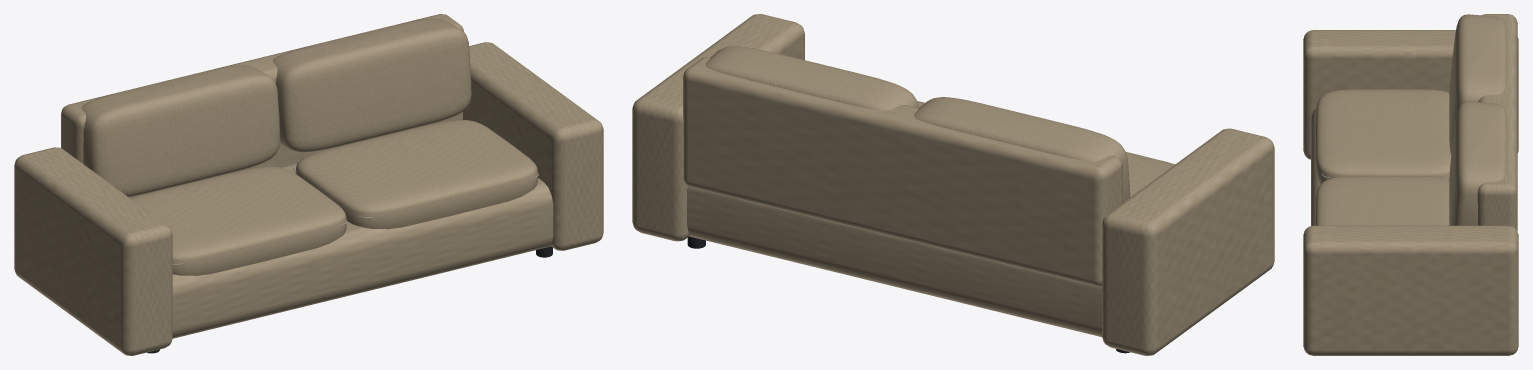
The model's file is sofa.glb.
3 views of the same model, side by side, from view 1: azimuth 30°, elevation 25°; view 2: azimuth 150°, elevation 25°; view 3: azimuth 270°, elevation 25° (orthographic). The views are drawn at different scales.
Parts seen in each view (by area): view 1: Wide_low_armrest, Low_upholstered_plinth, Reclined_back_cushion.001, Reclined_back_cushion, Separate_seat_cushion.001, Separate_seat_cushion, Wide_low_armrest.001, Upholstered_back_frame; view 2: Upholstered_back_frame, Wide_low_armrest, Low_upholstered_plinth, Wide_low_armrest.001, Reclined_back_cushion, Reclined_back_cushion.001, Separate_seat_cushion; view 3: Wide_low_armrest.001, Separate_seat_cushion, Wide_low_armrest, Separate_seat_cushion.001, Reclined_back_cushion.001, Reclined_back_cushion, Upholstered_back_frame, Low_upholstered_plinth.
Part boxes in pixels (x1,y1,x2,y2): Wide_low_armrest: (14,147,172,355); Low_upholstered_plinth: (172,165,553,338); Reclined_back_cushion.001: (273,18,471,152); Reclined_back_cushion: (81,65,280,196); Separate_seat_cushion.001: (295,119,537,229); Separate_seat_cushion: (130,166,346,275); Wide_low_armrest.001: (463,42,603,250); Upholstered_back_frame: (61,14,463,197); Upholstered_back_frame: (683,57,1122,286); Wide_low_armrest: (1102,128,1274,355); Low_upholstered_plinth: (687,186,1101,336); Wide_low_armrest.001: (632,14,804,241); Reclined_back_cushion: (914,97,1130,202); Reclined_back_cushion.001: (705,46,919,110); Separate_seat_cushion: (1126,152,1174,196); Wide_low_armrest.001: (1303,225,1518,355); Separate_seat_cushion: (1315,89,1451,183); Wide_low_armrest: (1303,30,1518,159); Separate_seat_cushion.001: (1315,176,1449,225); Reclined_back_cushion.001: (1449,101,1507,225); Reclined_back_cushion: (1449,14,1507,154); Upholstered_back_frame: (1477,14,1517,230); Low_upholstered_plinth: (1311,108,1320,225).
Size of the model in its own units: 2.28 by 0.83 by 0.95.
3 materials, 1 textured.
